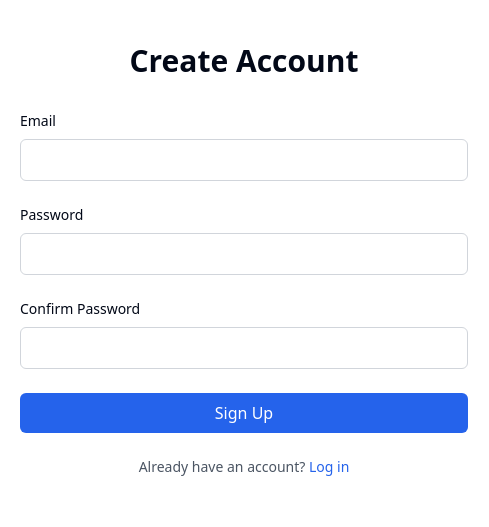
Test: RegisterPage › shows error on registration failure
Type "existing@example.com" into the field labelled "Email" at (244, 160), box [20, 139, 468, 181]
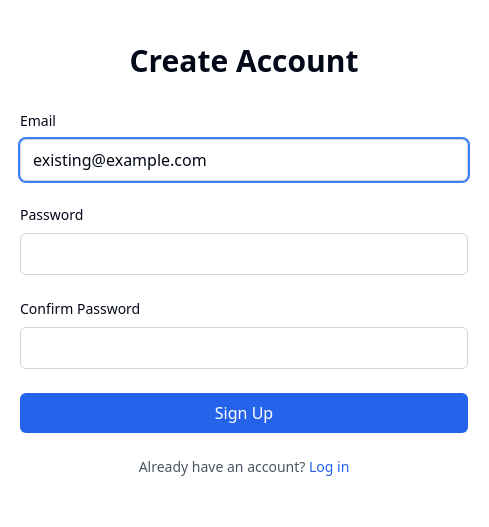
Type "password123" into the password field labelled "Password" at (244, 254), box [20, 233, 468, 275]
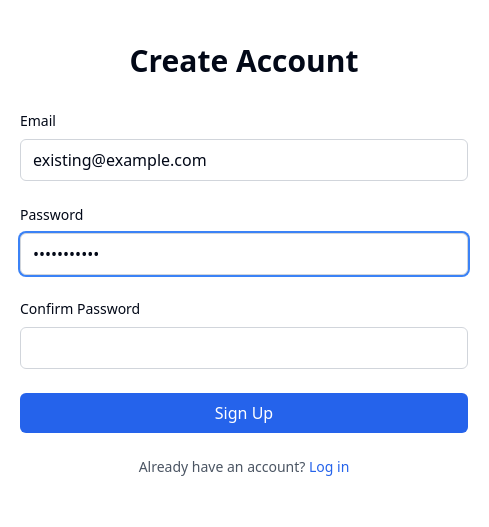
Type "password123" into the password field labelled "Confirm Password" at (244, 348), box [20, 327, 468, 369]
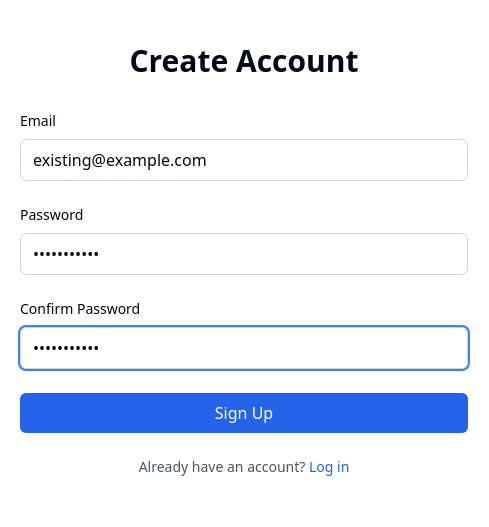
Click the button "Sign Up" at (244, 413), box [20, 393, 468, 433]
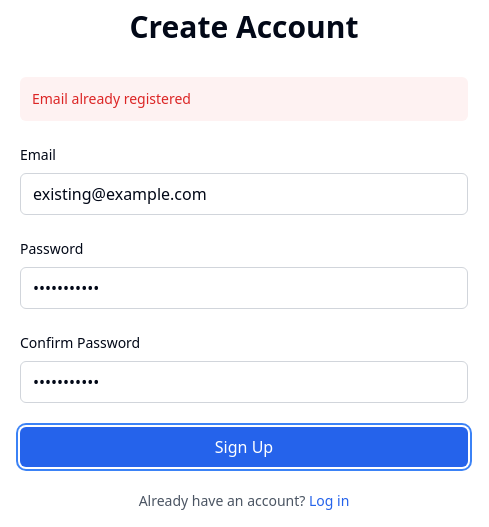
Check: the text "Email already registered" is shown, box [20, 77, 468, 121]
